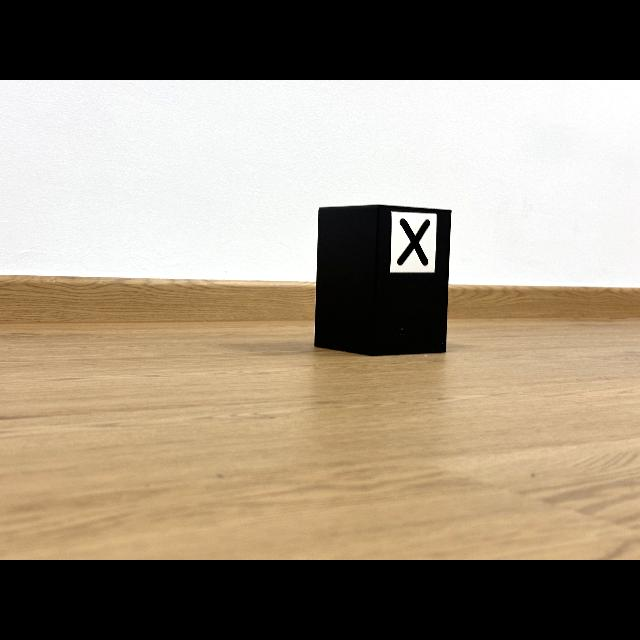X: (398, 219, 430, 266)
